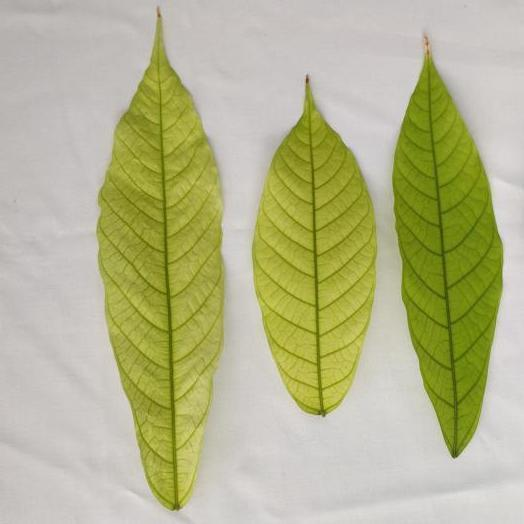Iron: (98, 12, 222, 509), (394, 39, 502, 456), (254, 77, 376, 415)
